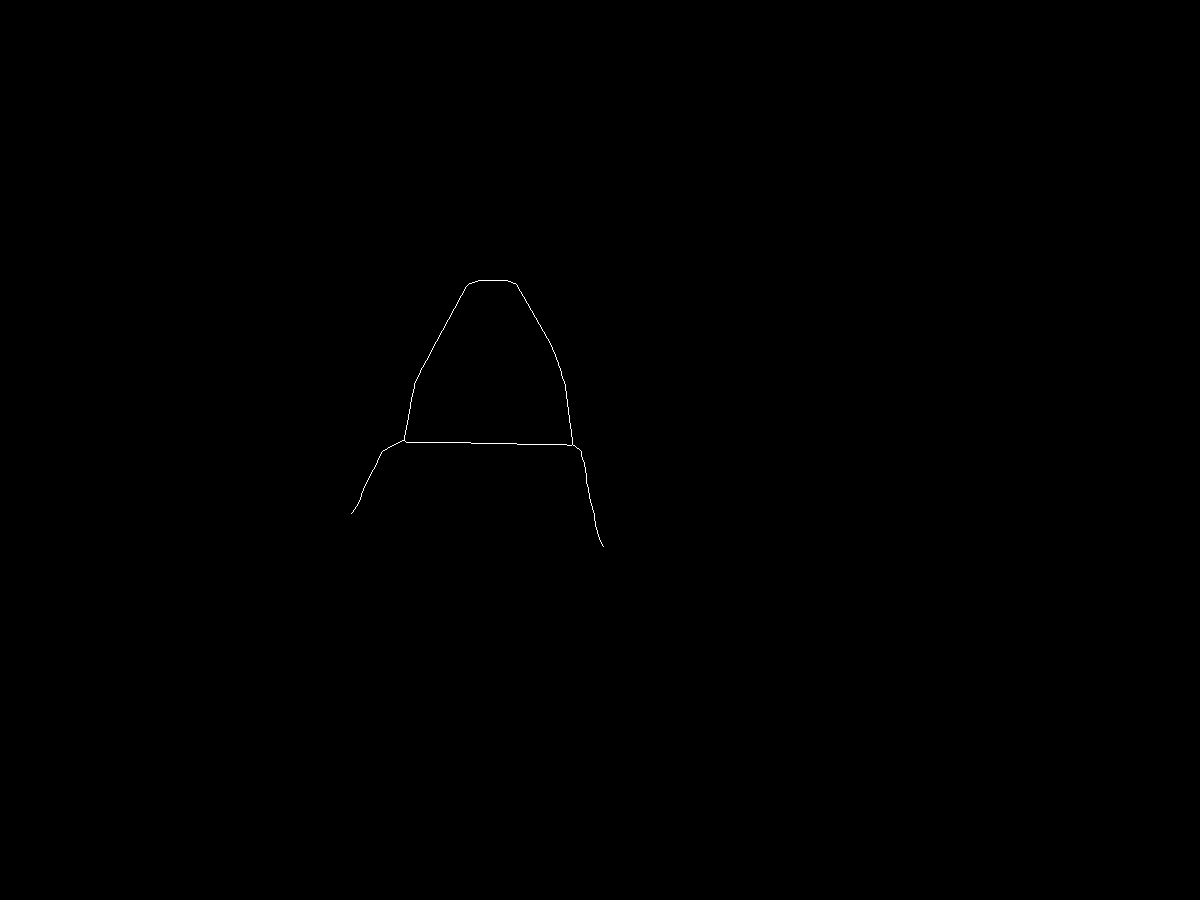dian1: (483, 272, 501, 290)
dian2: (396, 436, 413, 453)
dian3: (350, 506, 365, 521)
dian4: (567, 436, 586, 455)
dian5: (592, 537, 614, 559)
